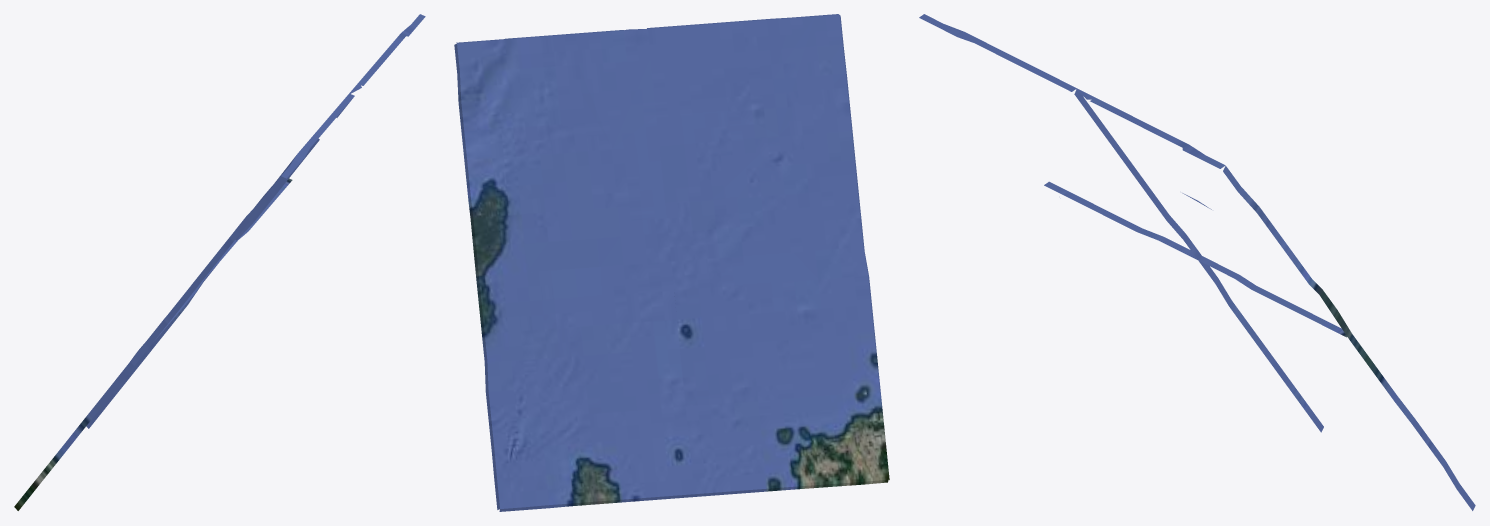
3 renders of one model, left to right at view 1: azimuth 30°, elevation 25°; view 2: azimuth 150°, elevation 25°; view 3: azimuth 270°, elevation 25°, orthographic. The views are drawn at different scales.
Bounding box in the file's own units: 157927 × 131262 × 153181.
1 material, 1 textured.
